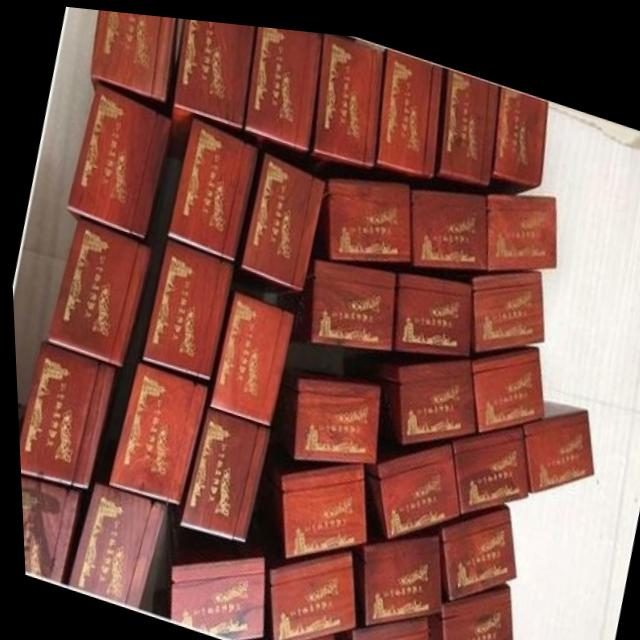box: (64, 80, 170, 235), (43, 218, 150, 366), (102, 357, 205, 504), (15, 341, 114, 488), (62, 480, 167, 613), (138, 234, 231, 380), (169, 401, 267, 539), (231, 146, 324, 289), (164, 114, 257, 256), (166, 15, 255, 155), (203, 287, 292, 422), (340, 349, 473, 436), (272, 252, 395, 342), (241, 21, 323, 147), (308, 26, 383, 158), (360, 432, 457, 533), (347, 515, 436, 619), (374, 37, 443, 168), (89, 8, 176, 109), (263, 542, 350, 640), (277, 458, 362, 556), (434, 56, 500, 177), (164, 553, 259, 637), (432, 496, 510, 592), (288, 372, 377, 455), (448, 414, 525, 506), (326, 172, 409, 253), (518, 388, 589, 482), (488, 75, 547, 183), (469, 336, 541, 424), (17, 475, 76, 582), (393, 266, 470, 344), (468, 260, 540, 342), (409, 182, 485, 259), (421, 572, 507, 640), (486, 184, 554, 260), (328, 607, 422, 640), (286, 628, 329, 640)
